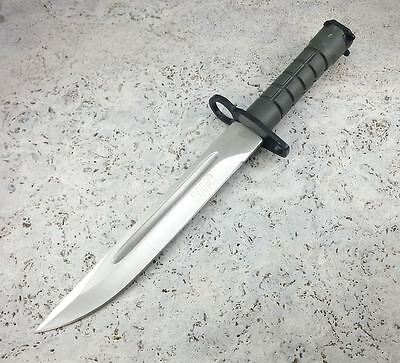knief: (14, 19, 381, 327)
